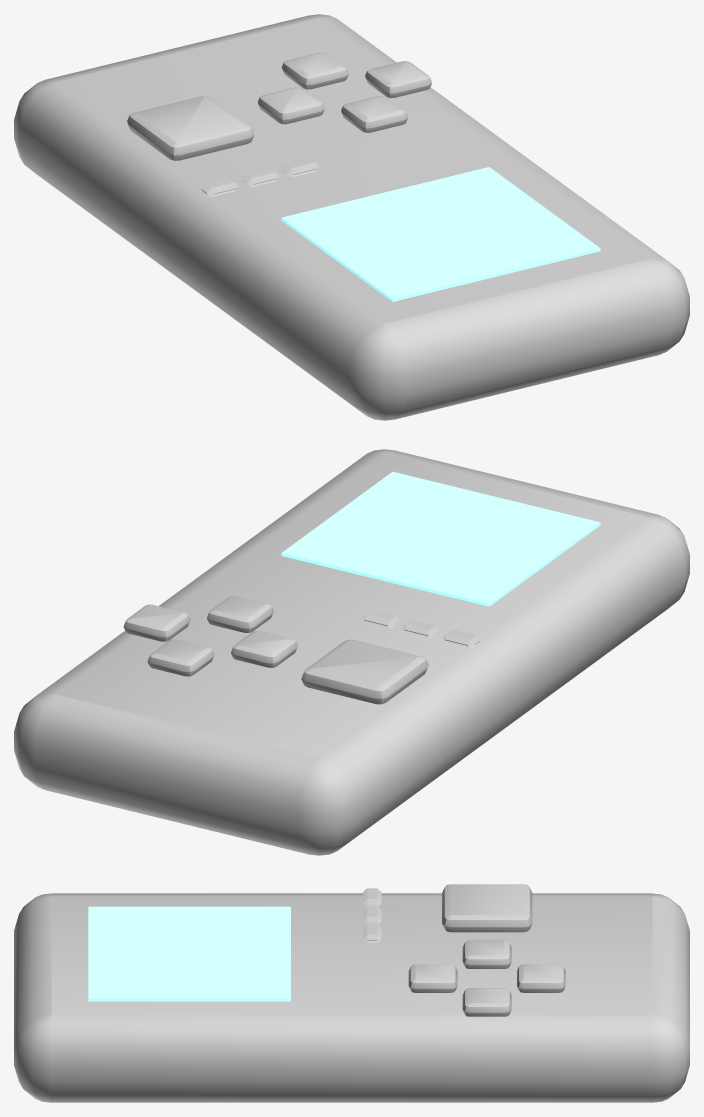
File: brick_game.glb
3 views of the same model, one above another, from view 1: azimuth 30°, elevation 25°; view 2: azimuth 150°, elevation 25°; view 3: azimuth 270°, elevation 25° (orthographic). The views are drawn at different scales.
Parts seen in each view (by area): view 1: brick_game, screen; view 2: brick_game, screen; view 3: brick_game, screen.
Boxes of the visible parts, x1,y1,x2,y2 form: brick_game: (14,14,689,420); screen: (281,167,600,301); brick_game: (14,449,689,855); screen: (281,471,600,606); brick_game: (14,884,689,1102); screen: (88,906,290,1001).
Size of the model in its own units: 0.752 by 0.24 by 1.44.
